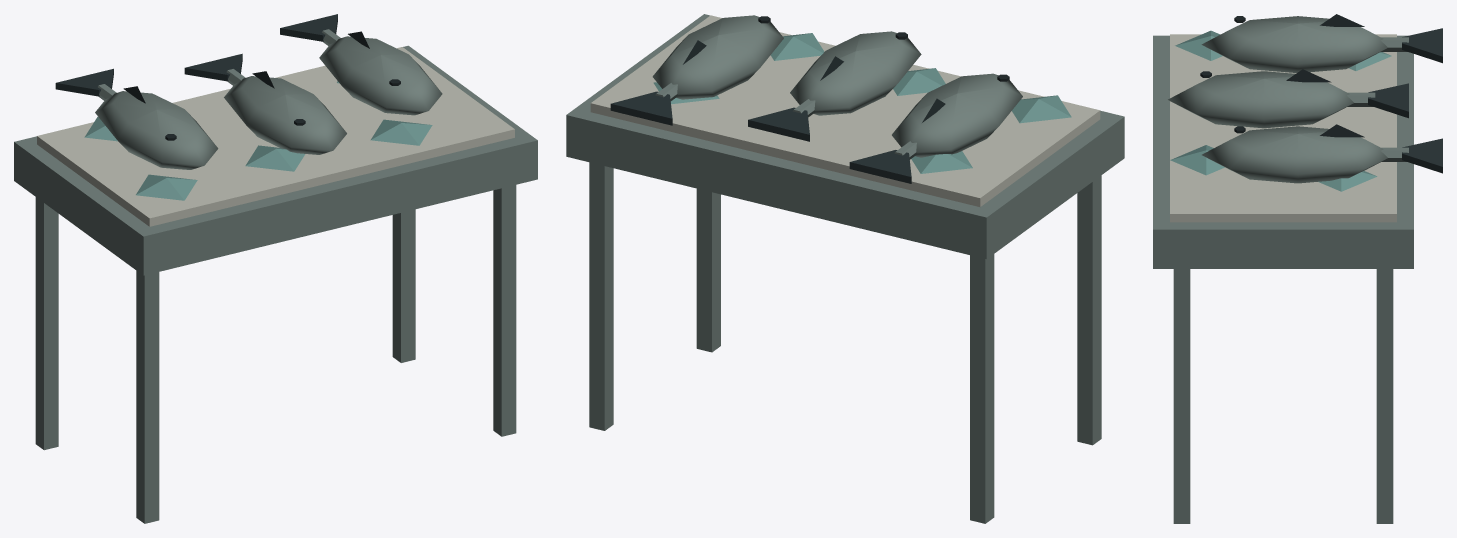
3 renders of one model, left to right at view 1: azimuth 30°, elevation 25°; view 2: azimuth 150°, elevation 25°; view 3: azimuth 270°, elevation 25°, orthographic. The views are drawn at different scales.
Visible parts, largest first — view 1: a183; view 2: a183; view 3: a183.
Part boxes in pixels (x1=…): a183: x1=14, y1=14, x2=537, y2=523; a183: x1=566, y1=14, x2=1124, y2=523; a183: x1=1153, y1=14, x2=1442, y2=523.
Size of the model in its own units: 0.95 by 0.83 by 0.6.
